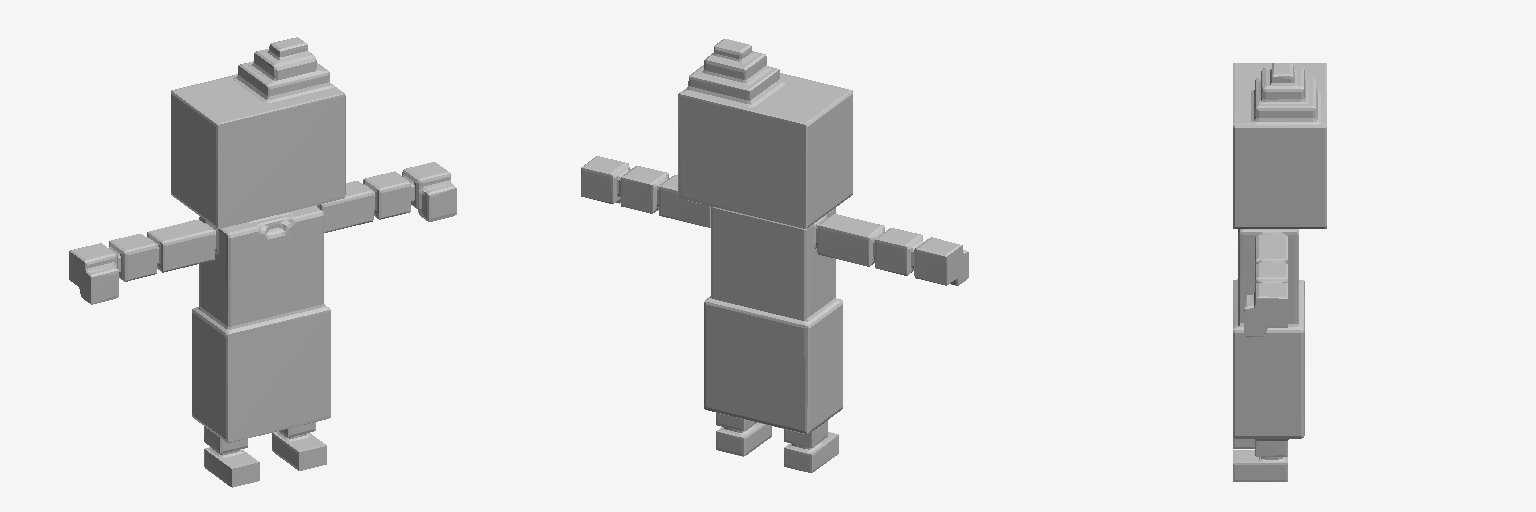
The model's file is aldalien.obj.
3 views of the same model, side by side, from view 1: azimuth 30°, elevation 25°; view 2: azimuth 150°, elevation 25°; view 3: azimuth 270°, elevation 25° (orthographic).
Visible parts, largest first — view 1: oldalien.001; view 2: oldalien.001; view 3: oldalien.001.
Boxes of the visible parts, <box> form: oldalien.001: <box>69,37,456,487</box>; oldalien.001: <box>581,39,968,472</box>; oldalien.001: <box>1233,63,1326,481</box>.
Size of the model in its own units: 7.47 by 7.96 by 1.67.